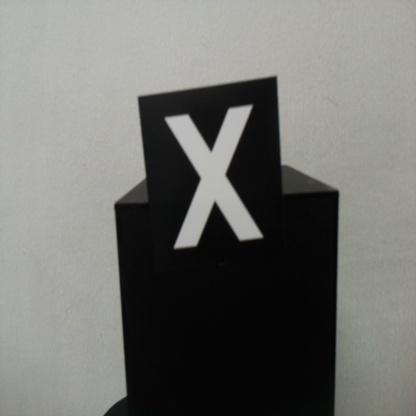id_13: (137, 94, 286, 276)
